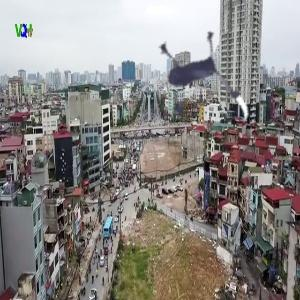drone: (127, 19, 261, 153)
